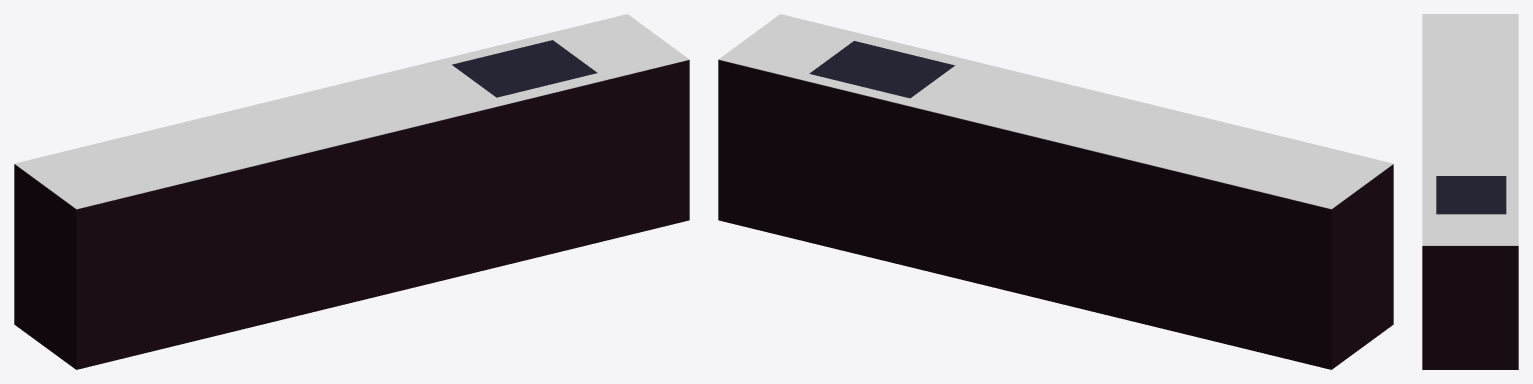
File: _anNauAn.fbx
3 views of the same model, side by side, from view 1: azimuth 30°, elevation 25°; view 2: azimuth 150°, elevation 25°; view 3: azimuth 270°, elevation 25° (orthographic). The views are drawn at different scales.
Visible parts, largest first — view 1: BanNauAn; view 2: BanNauAn; view 3: BanNauAn.
Part boxes in pixels (box(x1,y1,x2,y2)): BanNauAn: box(14, 14, 689, 369); BanNauAn: box(718, 14, 1393, 369); BanNauAn: box(1422, 14, 1518, 369).
Size of the model in its own units: 4 by 1 by 0.7014.
